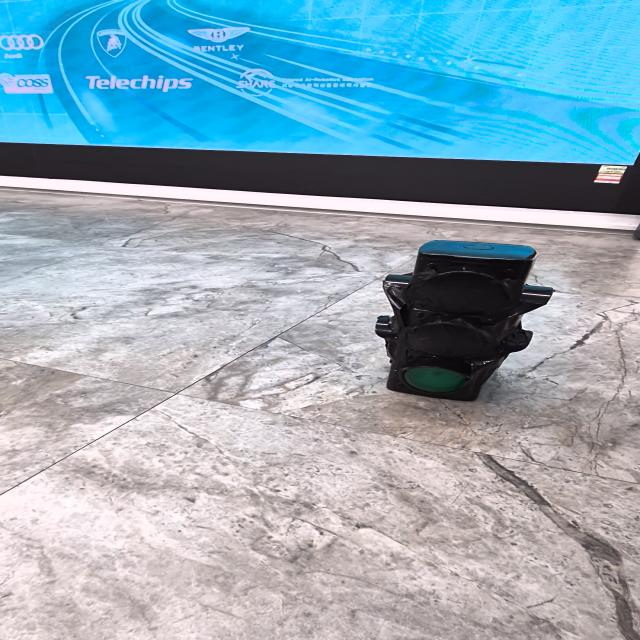green_light: (405, 367, 467, 392)
